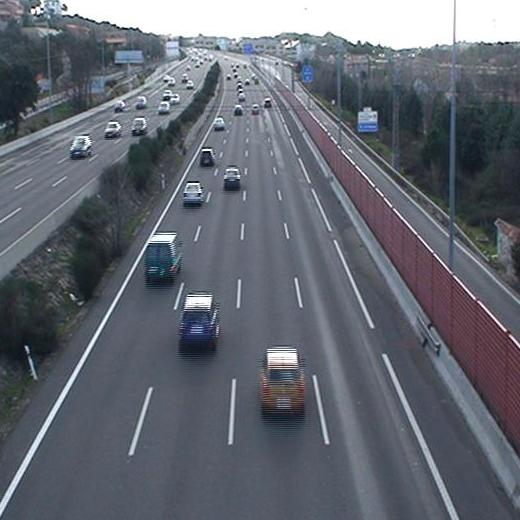car: (258, 345, 305, 413), (178, 292, 220, 341), (183, 179, 205, 204), (223, 166, 241, 187), (198, 147, 215, 166), (211, 116, 226, 131), (232, 103, 244, 117), (263, 96, 275, 110), (250, 103, 261, 114)
van: (142, 230, 183, 284)
